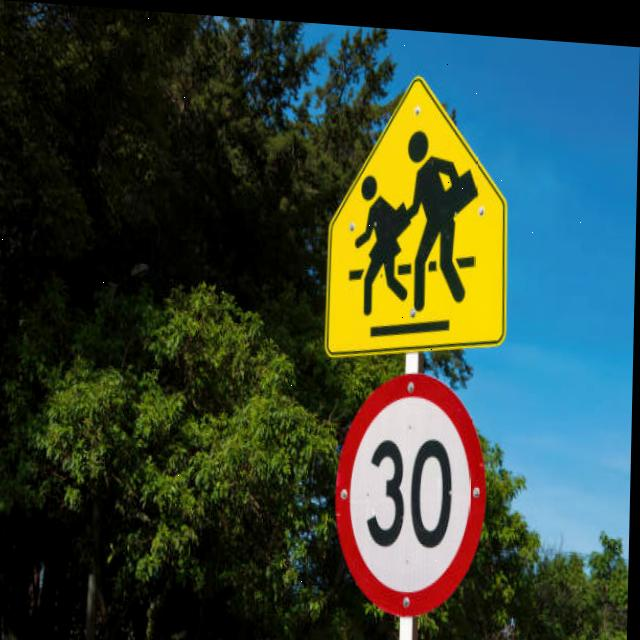Speed limit 30: (334, 359, 493, 618)
